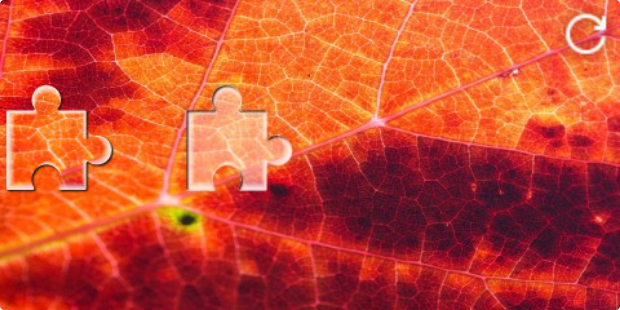target: (187, 86, 291, 190)
